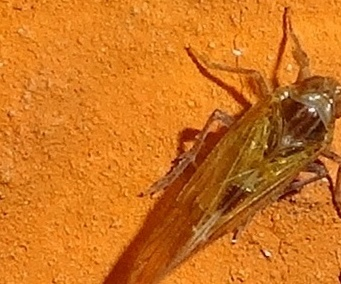Brown_hopper: (147, 37, 339, 236)
